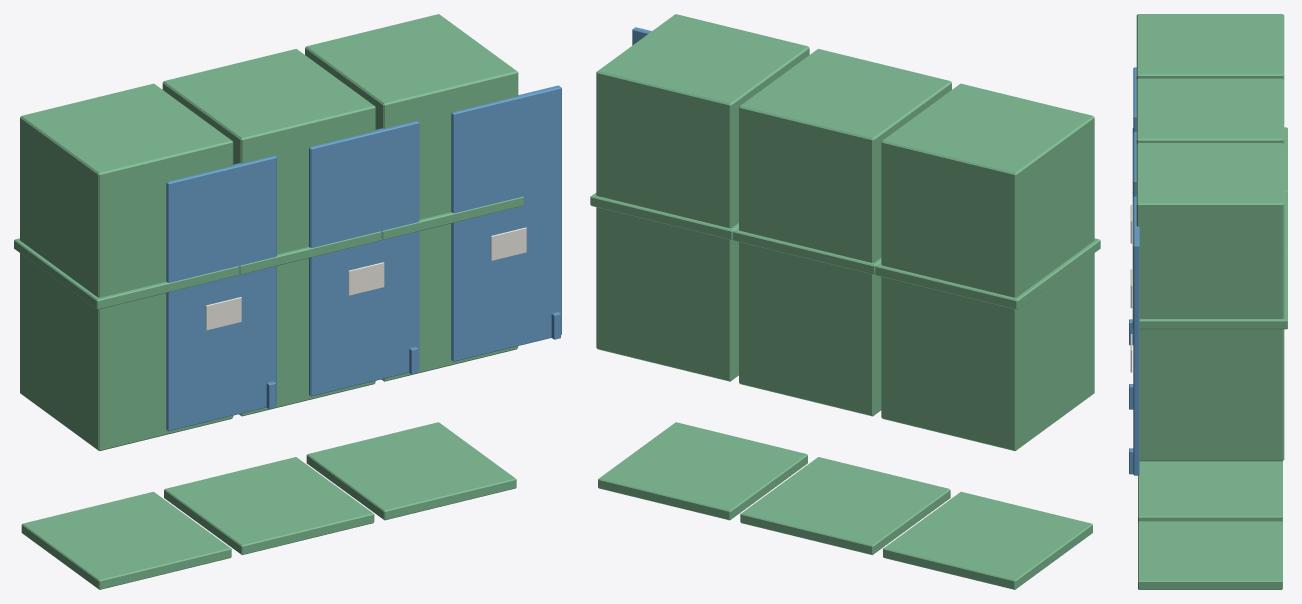
File: live-music-venue-and-festival-stage-portable-toilet-bl-309ed26a.glb
3 views of the same model, side by side, from view 1: azimuth 30°, elevation 25°; view 2: azimuth 150°, elevation 25°; view 3: azimuth 270°, elevation 25° (orthographic). The views are drawn at different scales.
Parts seen in each view (by area): view 1: portable-toilet-block, door; view 2: portable-toilet-block; view 3: portable-toilet-block, door.
Part boxes in pixels (box(x1,y1,x2,y2)): portable-toilet-block: box(14, 14, 561, 589); door: box(309, 121, 419, 396); portable-toilet-block: box(590, 14, 1100, 589); portable-toilet-block: box(1129, 14, 1287, 589); door: box(1129, 132, 1136, 409).
Bounding box in the file's own units: 3.92 × 3.36 × 1.25.
